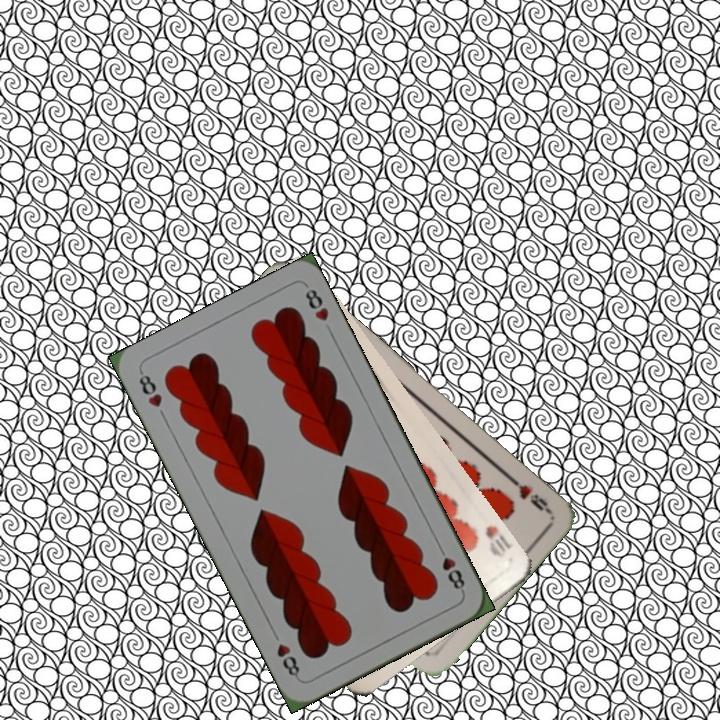H10: (481, 521, 513, 561)
H8: (433, 541, 468, 596), (135, 368, 165, 410)
H9: (503, 471, 552, 515)
